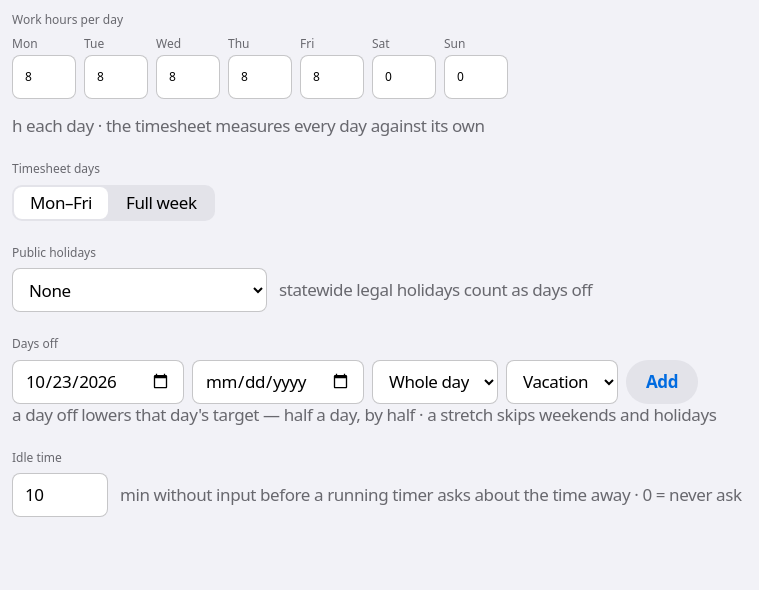
days off › says a weekend day has nothing to take off
The image size is (759, 590).
Type "2026-11-07" into the date field named "Day off from".
click(98, 382); type("2026-11-07")  # box x1=12 y1=360 x2=184 y2=404
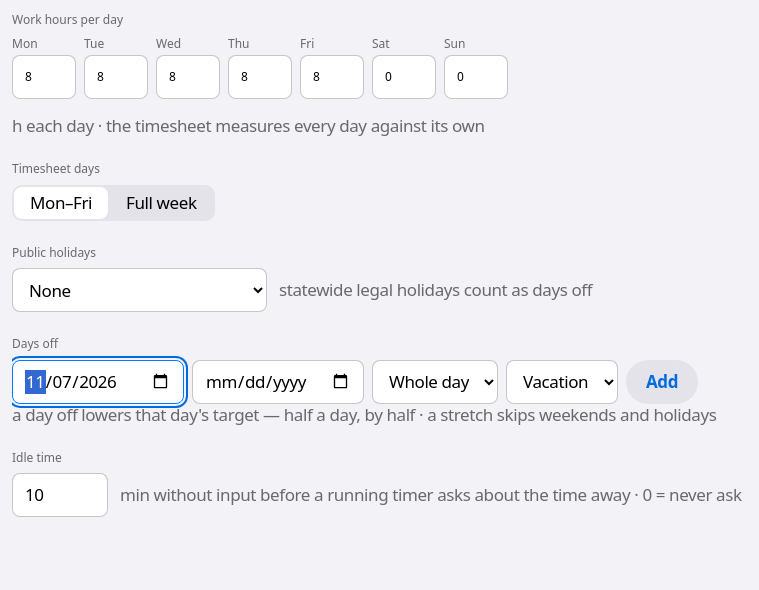
Click the button "Add".
click(662, 382)  # box x1=626 y1=360 x2=698 y2=404
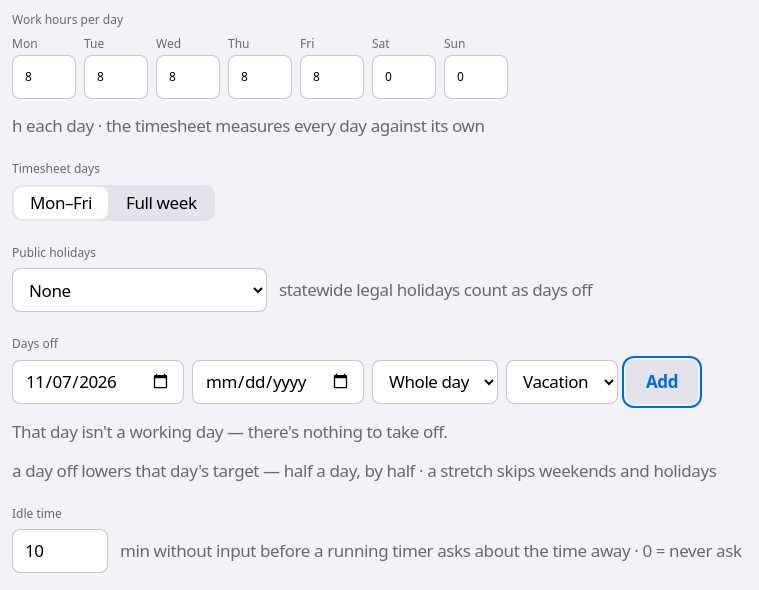
Expected: the text "That day isn't a working day — there's nothing to take off." is shown, x1=12 y1=420 x2=448 y2=443
